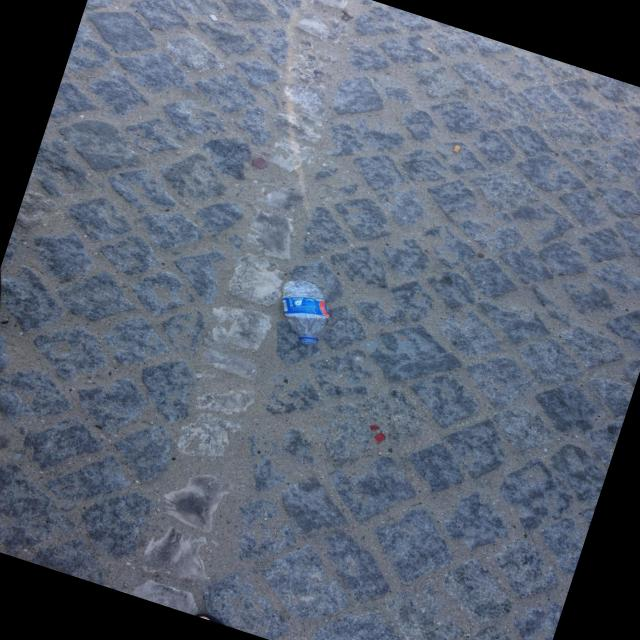less trash: (282, 280, 329, 346)
